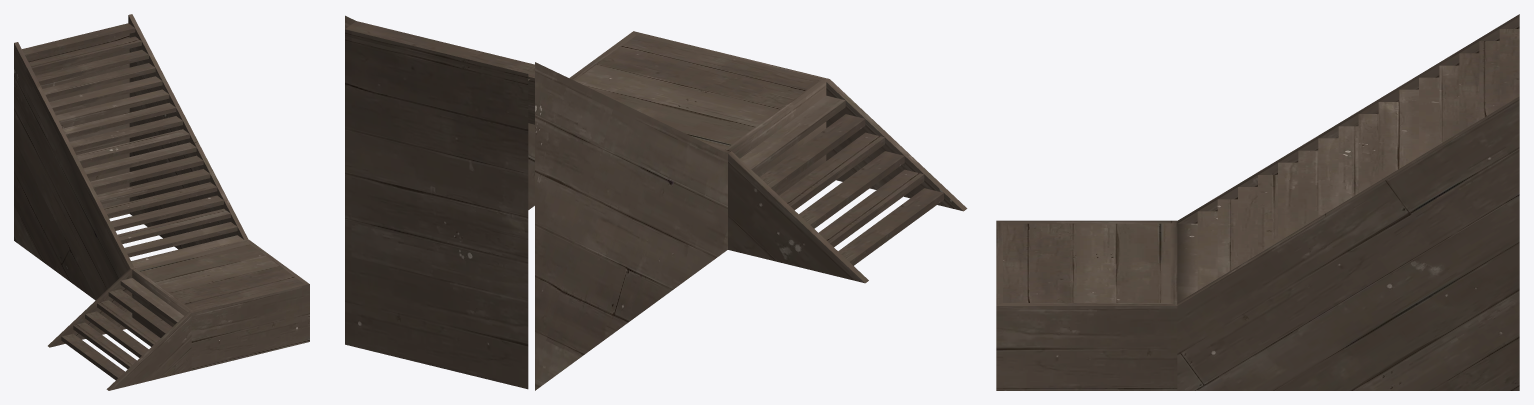
3 renders of one model, left to right at view 1: azimuth 30°, elevation 25°; view 2: azimuth 150°, elevation 25°; view 3: azimuth 270°, elevation 25°, orthographic. The views are drawn at different scales.
Visible parts, largest first — view 1: body0_model0_lod0_mesh0; view 2: body0_model0_lod0_mesh0; view 3: body0_model0_lod0_mesh0.
Part boxes in pixels (box(x1,y1,x2,y2)): body0_model0_lod0_mesh0: box(14, 14, 309, 390); body0_model0_lod0_mesh0: box(345, 15, 967, 390); body0_model0_lod0_mesh0: box(996, 14, 1519, 390).
Bounding box in the file's own units: 204 × 192 × 312.
1 material, 1 textured.
